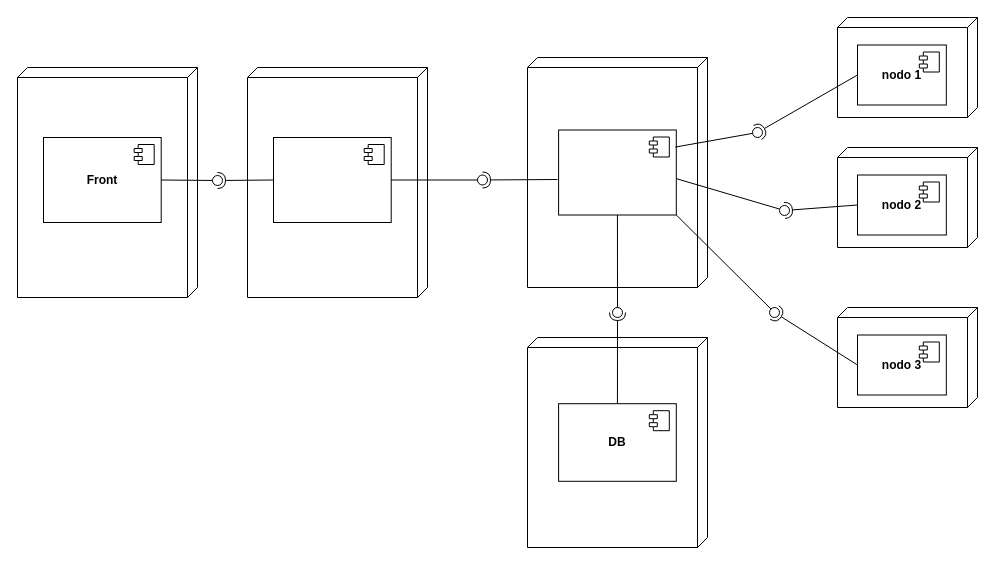
This 995x565 diagram has some shape labels left out. The centre of each missing label's shape, as x and y in pixels:
"backendcliente" goes at point (331, 179).
"backendserver" goes at point (617, 172).
